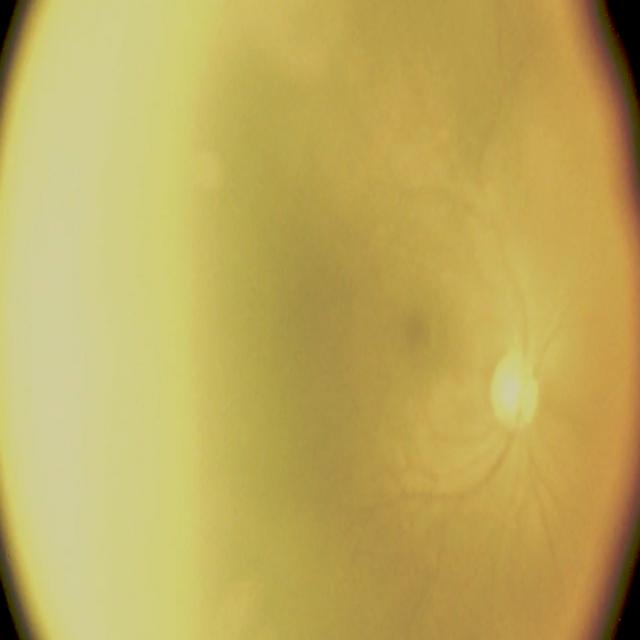optic-nerve: (478, 322, 551, 469)
